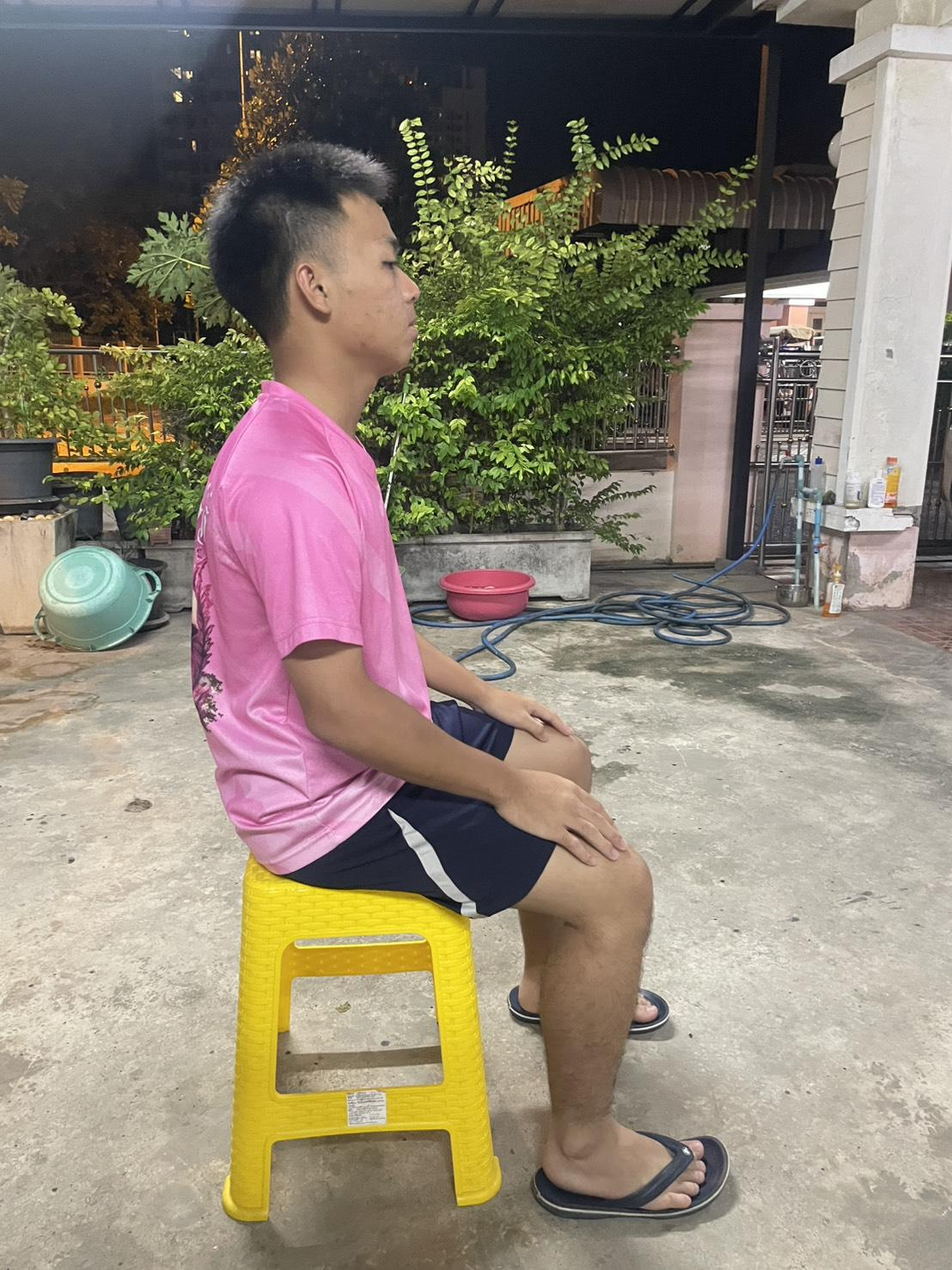GoodPosture: (193, 143, 728, 1219)
